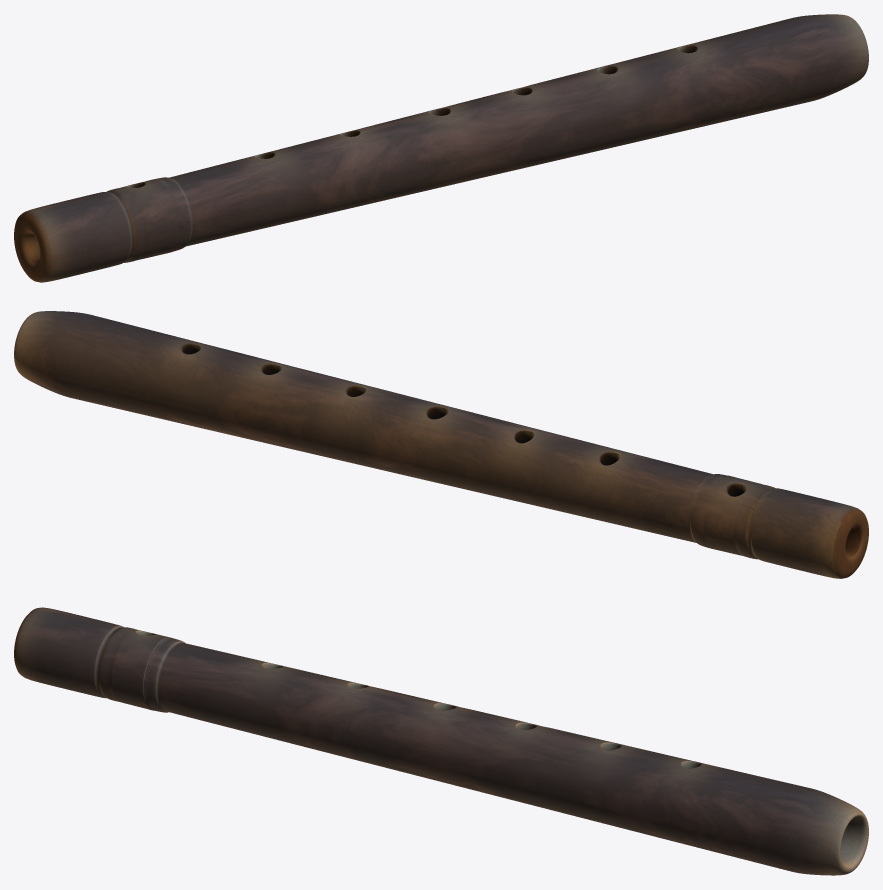
The model's file is MulluKurumba_Kozhal.glb.
The picture shows the model from 3 angles, top to bottom: view 1: azimuth 30°, elevation 25°; view 2: azimuth 150°, elevation 25°; view 3: azimuth 330°, elevation 25°; orthographic projection.
Visible parts, largest first — view 1: flute.002; view 2: flute.002; view 3: flute.002.
Part boxes in pixels (bbox=[...]): flute.002: bbox=[14, 14, 868, 282]; flute.002: bbox=[14, 311, 868, 578]; flute.002: bbox=[14, 607, 868, 875].
Bounding box in the file's own units: 0.2 × 0.018 × 0.018.
1 material, 1 textured.
